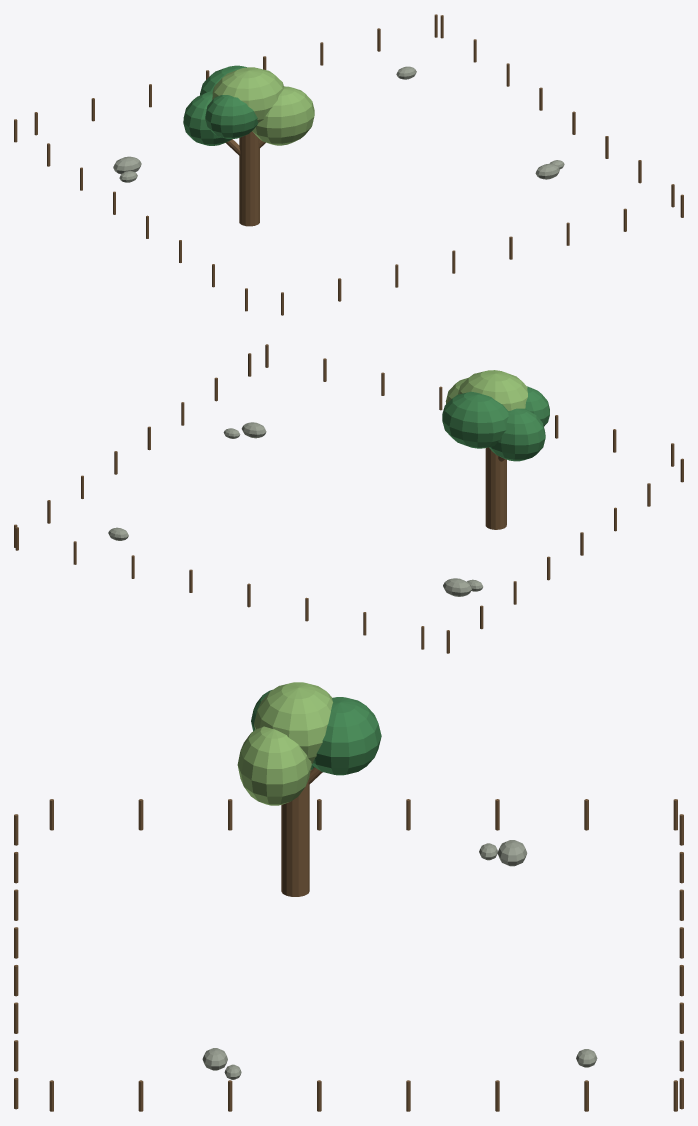
File: environment.glb
3 renders of one model, top to bottom at view 1: azimuth 30°, elevation 25°; view 2: azimuth 150°, elevation 25°; view 3: azimuth 270°, elevation 25°, orthographic. The views are drawn at different scales.
Visible parts, largest first — view 1: Neem_Canopy_1, Neem_Canopy_3, Neem_Trunk, Neem_Canopy_4, Neem_Canopy_0; view 2: Neem_Canopy_2, Neem_Canopy_0, Neem_Canopy_3, Neem_Trunk, Neem_Canopy_4; view 3: Neem_Canopy_1, Neem_Canopy_3, Neem_Canopy_2, Neem_Trunk.
Part boxes in pixels (<box>): Neem_Canopy_1: <box>252,86,314,145</box>; Neem_Canopy_3: <box>212,67,283,122</box>; Neem_Trunk: <box>239,131,259,226</box>; Neem_Canopy_4: <box>205,95,258,138</box>; Neem_Canopy_0: <box>183,91,232,145</box>; Neem_Canopy_2: <box>442,391,508,448</box>; Neem_Canopy_0: <box>489,408,545,461</box>; Neem_Canopy_3: <box>458,370,527,410</box>; Neem_Trunk: <box>485,447,506,529</box>; Neem_Canopy_4: <box>525,386,549,426</box>; Neem_Canopy_1: <box>237,726,311,805</box>; Neem_Canopy_3: <box>254,682,332,763</box>; Neem_Canopy_2: <box>311,697,381,775</box>; Neem_Trunk: <box>281,780,309,896</box>.
Bounding box in the file's own units: 22.55 × 7.55 × 22.55.
